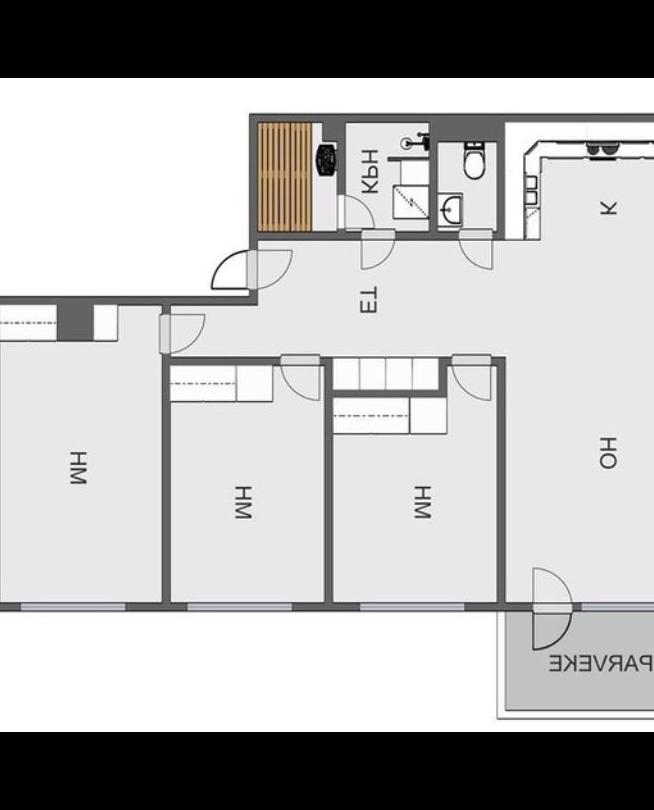door: (277, 345, 324, 404), (450, 351, 498, 406), (204, 246, 258, 294), (157, 310, 207, 356), (528, 562, 572, 614), (456, 222, 496, 276), (248, 247, 292, 294), (356, 226, 398, 274), (531, 604, 572, 650), (332, 193, 376, 234)
window: (11, 596, 135, 616), (178, 598, 300, 617), (352, 598, 470, 617), (573, 601, 654, 616)
